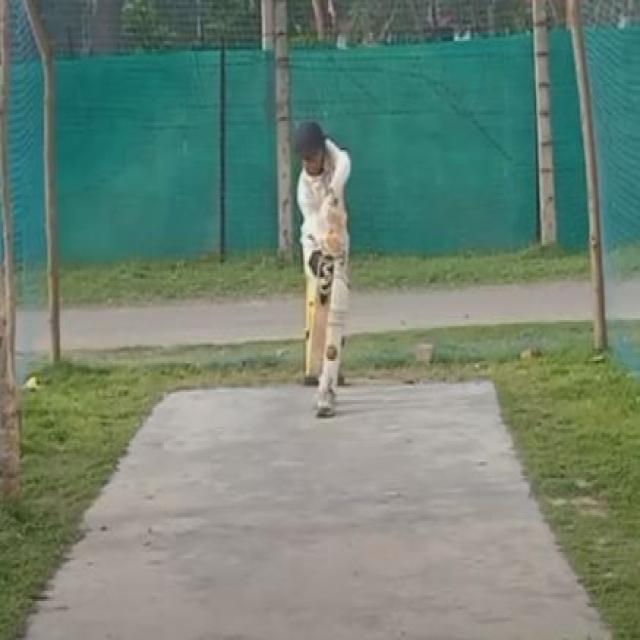ball: (324, 338, 338, 368)
